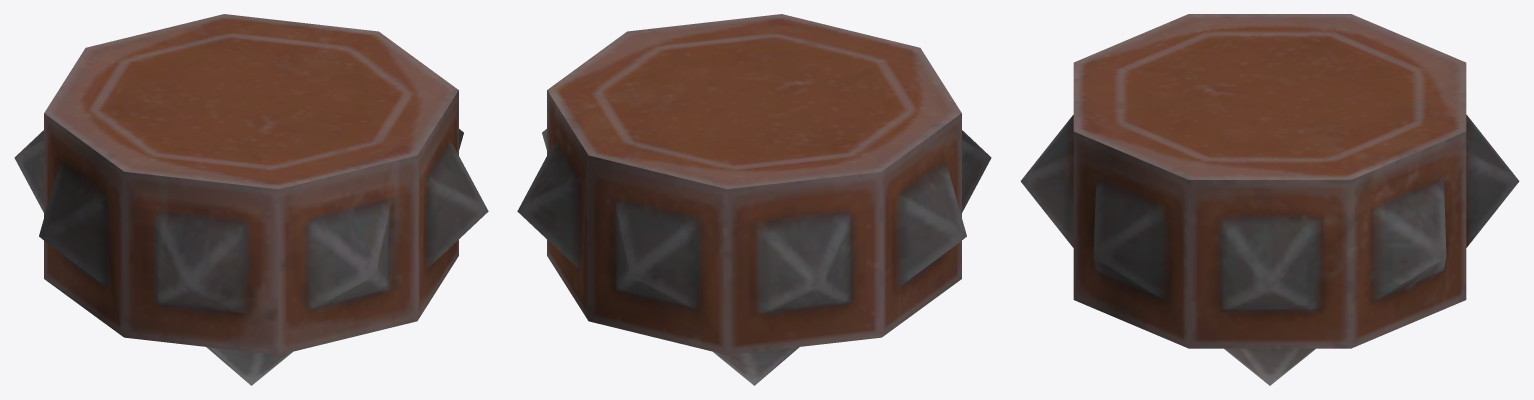
The model's file is sm_dwarf_dain_hammer_pommel_a.fbx.
3 renders of one model, left to right at view 1: azimuth 30°, elevation 25°; view 2: azimuth 150°, elevation 25°; view 3: azimuth 270°, elevation 25°, orthographic.
Visible parts, largest first — view 1: sm_dwarf_dain_hammer_pommel_a; view 2: sm_dwarf_dain_hammer_pommel_a; view 3: sm_dwarf_dain_hammer_pommel_a.
Boxes of the visible parts, x1,y1,x2,y2 form: sm_dwarf_dain_hammer_pommel_a: (14, 14, 488, 385); sm_dwarf_dain_hammer_pommel_a: (517, 14, 991, 385); sm_dwarf_dain_hammer_pommel_a: (1020, 14, 1519, 385).
Size of the model in its own units: 0.0939 by 0.0939 by 0.06.
1 material, 1 textured.
